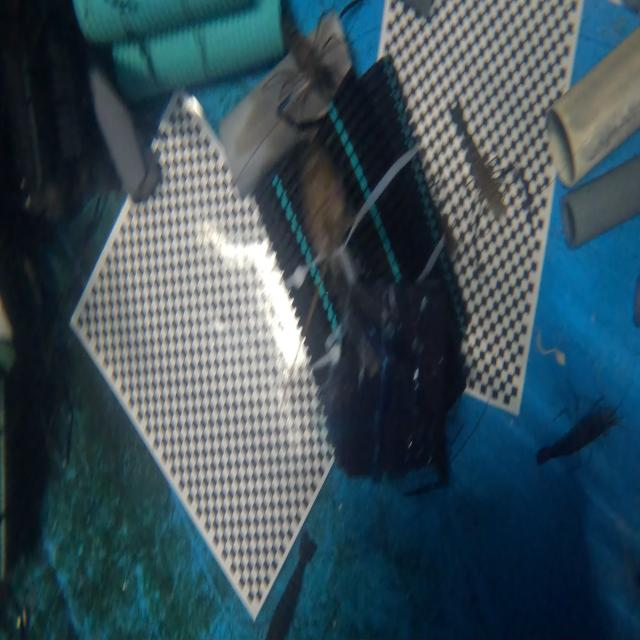prawn: (278, 15, 350, 126), (450, 103, 506, 217), (265, 531, 315, 639)
